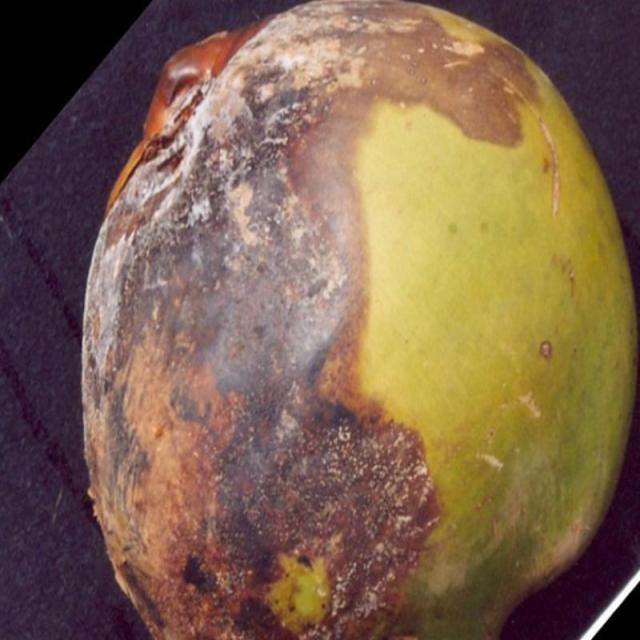damaged: (79, 0, 639, 639)
